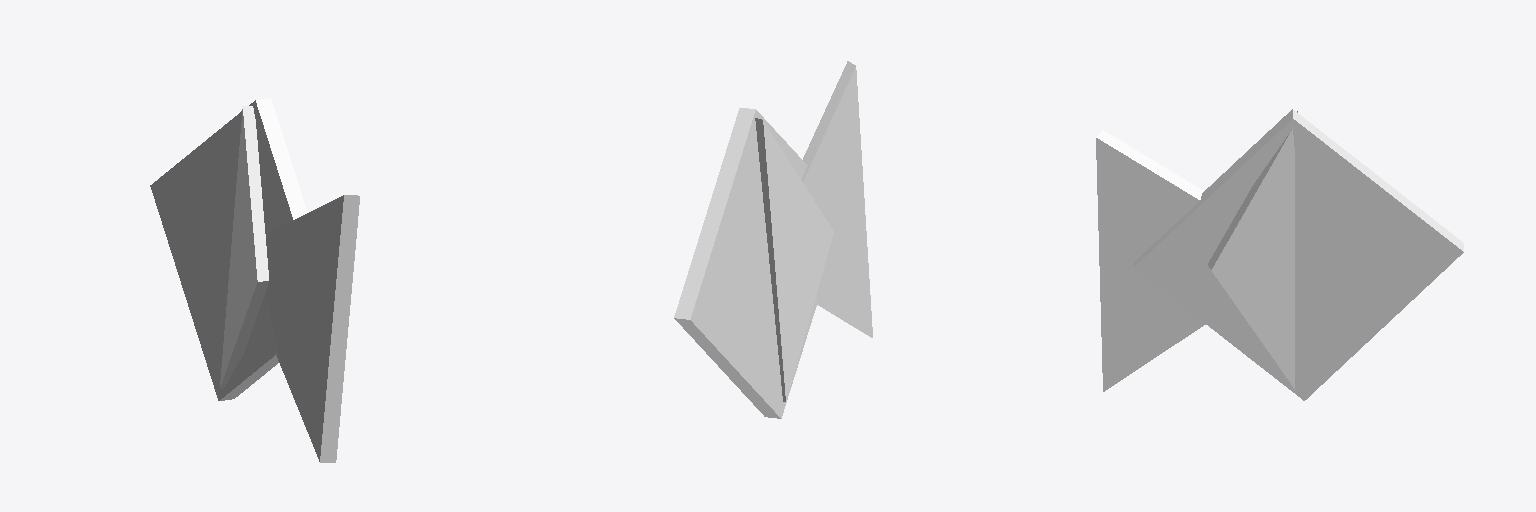
Rendered from 2ndfishy.obj.
3 renders of one model, left to right at view 1: azimuth 30°, elevation 25°; view 2: azimuth 150°, elevation 25°; view 3: azimuth 270°, elevation 25°, orthographic.
Visible parts, largest first — view 1: 2ndfishy; view 2: 2ndfishy; view 3: 2ndfishy.
Part boxes in pixels (bbox=[...]): 2ndfishy: bbox=[150, 98, 359, 462]; 2ndfishy: bbox=[674, 61, 872, 418]; 2ndfishy: bbox=[1096, 109, 1463, 400].
Size of the model in its own units: 0.2487 by 1.1 by 1.23.